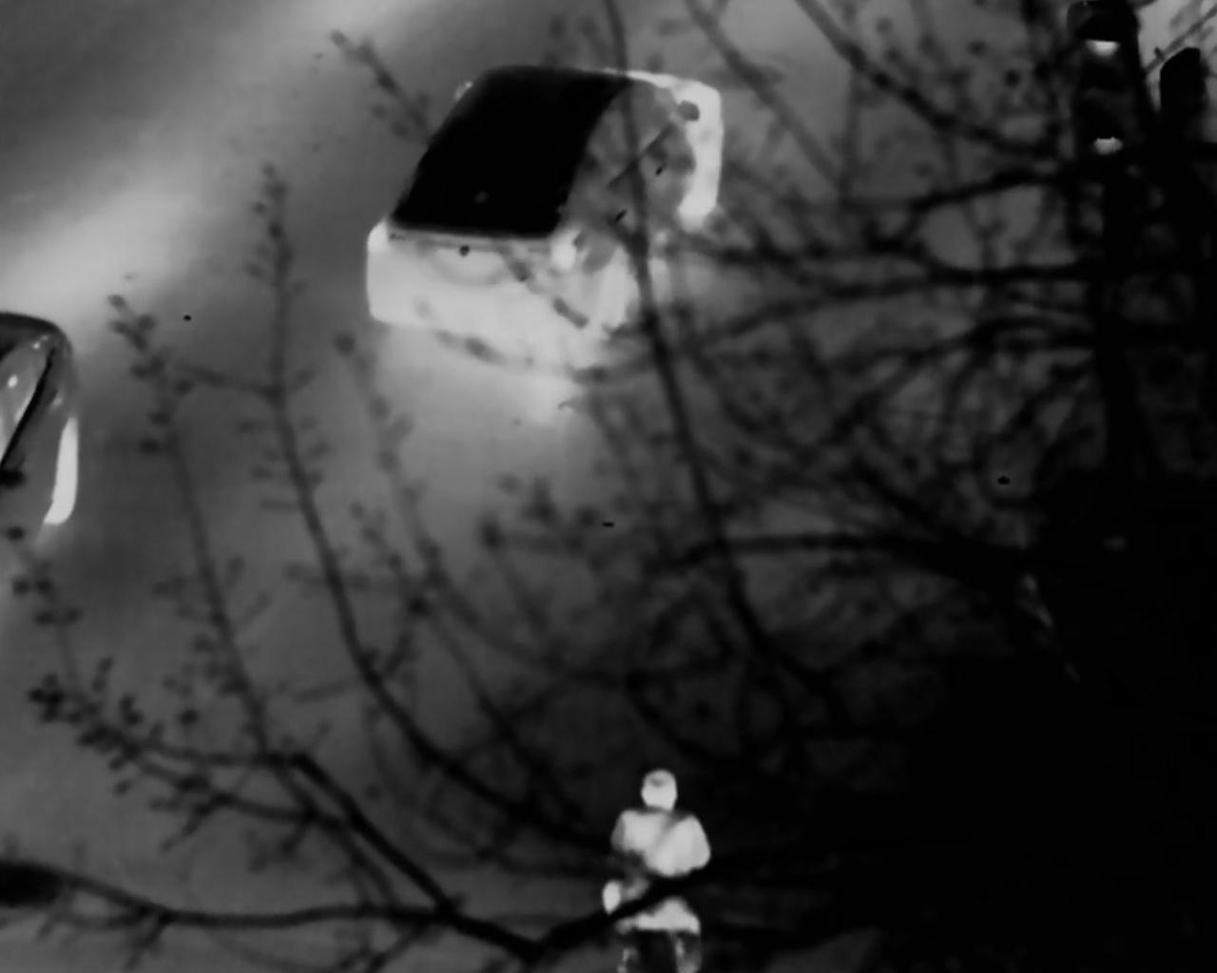person: (611, 770, 709, 959)
